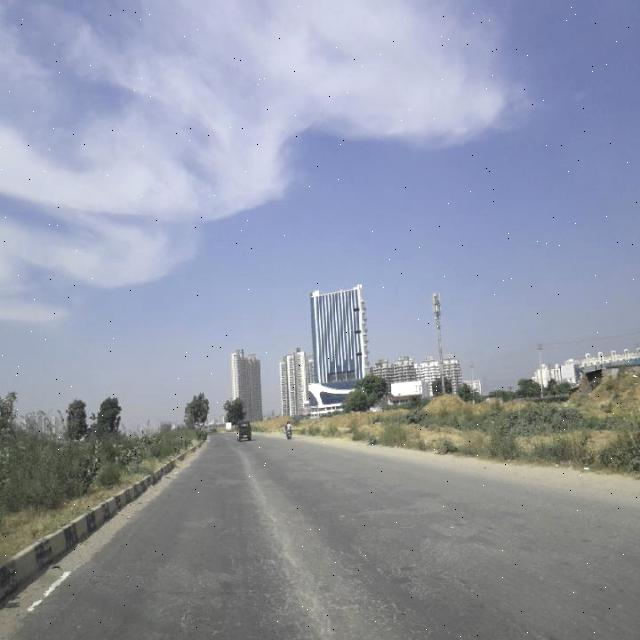D00: (240, 455, 341, 630)
D20: (174, 528, 428, 639)
